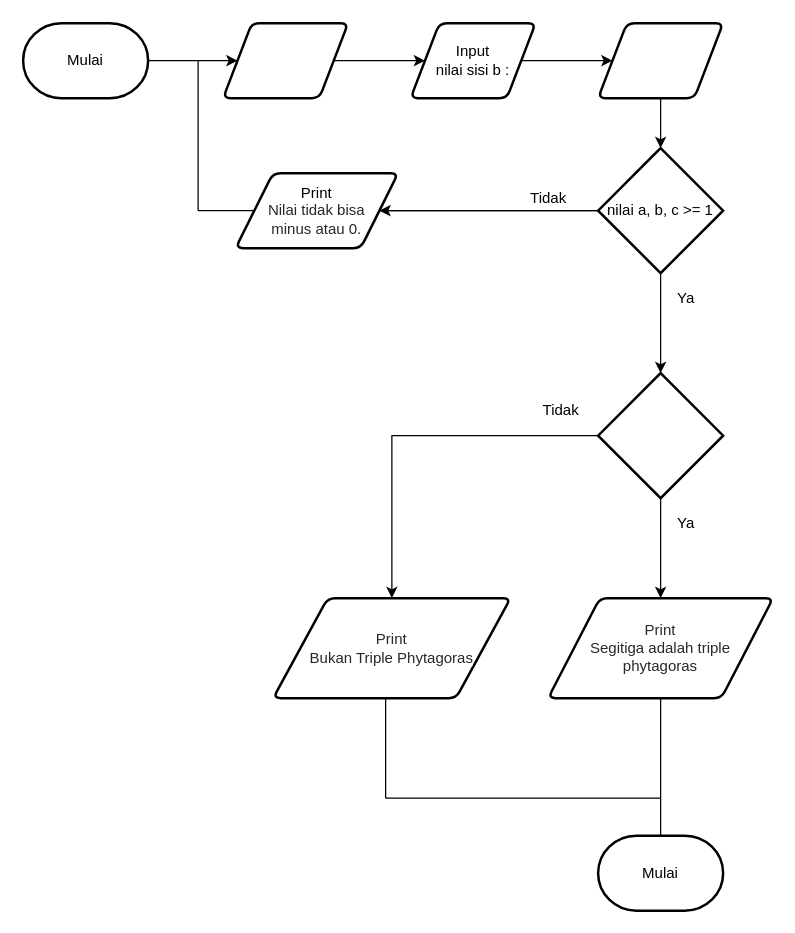
Image size: 795x933. Some labels were removed from this diagram. Here are the shapes that lost their labels. From the top down, the centre of each, then its label:
(285,60): Input nilai sisi a :
(660,60): Input nilai sisi c :
(660,435): a 2 + b 2 = c 2
